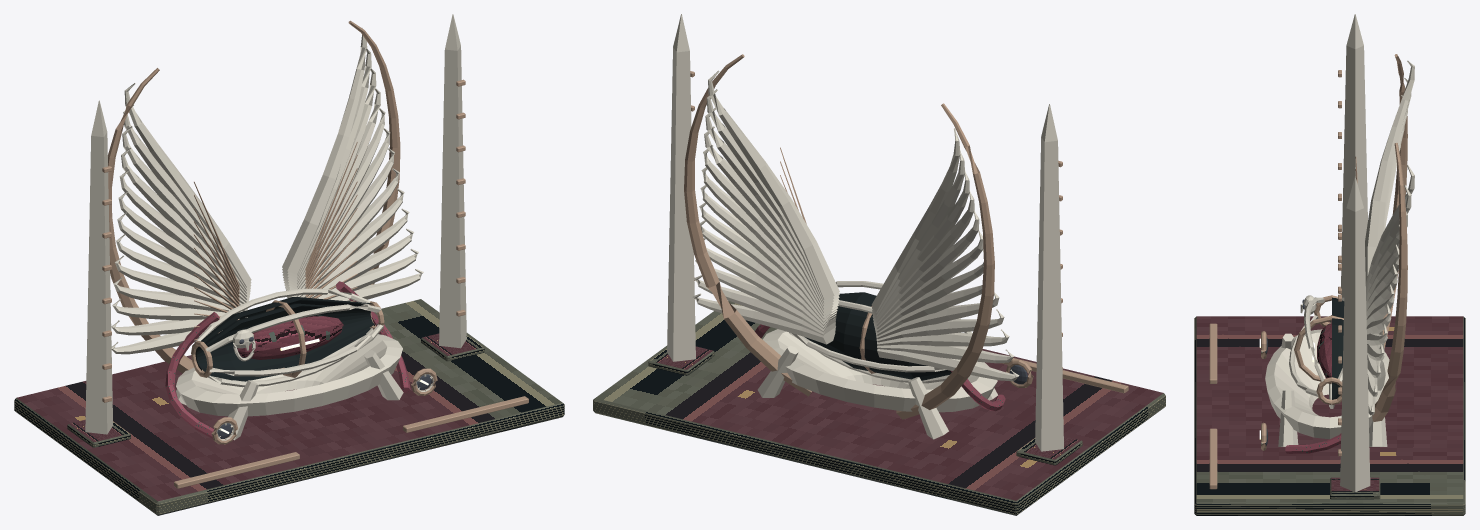
Rendered from nursery_winged_cradle.glb.
The picture shows the model from 3 angles, left to right: view 1: azimuth 30°, elevation 25°; view 2: azimuth 150°, elevation 25°; view 3: azimuth 270°, elevation 25°; orthographic projection. The views are drawn at different scales.
Parts seen in each view (by area): view 1: nursery_winged_cradle_warm, nursery_winged_cradle_petrol, nursery_winged_cradle_worn, nursery_winged_cradle_bruised; view 2: nursery_winged_cradle_warm, nursery_winged_cradle_petrol, nursery_winged_cradle_worn, nursery_winged_cradle_bruised; view 3: nursery_winged_cradle_petrol, nursery_winged_cradle_warm, nursery_winged_cradle_worn, nursery_winged_cradle_bruised.
Part boxes in pixels (x1,y1,x2,y2): nursery_winged_cradle_warm: [85, 14, 466, 440]; nursery_winged_cradle_petrol: [14, 297, 564, 515]; nursery_winged_cradle_worn: [102, 20, 528, 488]; nursery_winged_cradle_bruised: [165, 281, 410, 438]; nursery_winged_cradle_warm: [667, 14, 1063, 451]; nursery_winged_cradle_petrol: [593, 291, 1165, 515]; nursery_winged_cradle_worn: [684, 54, 1128, 419]; nursery_winged_cradle_bruised: [755, 324, 1005, 411]; nursery_winged_cradle_petrol: [1194, 297, 1465, 515]; nursery_winged_cradle_warm: [1261, 14, 1414, 492]; nursery_winged_cradle_worn: [1209, 54, 1407, 489]; nursery_winged_cradle_bruised: [1285, 323, 1341, 453].
Size of the model in its own units: 7.05 by 5.73 by 4.3.
6 materials, 2 textured.
